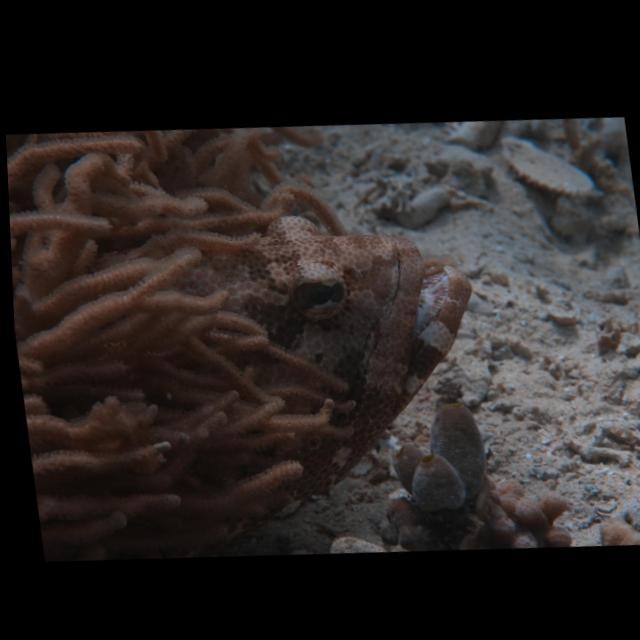Groupers: (66, 188, 502, 546)
